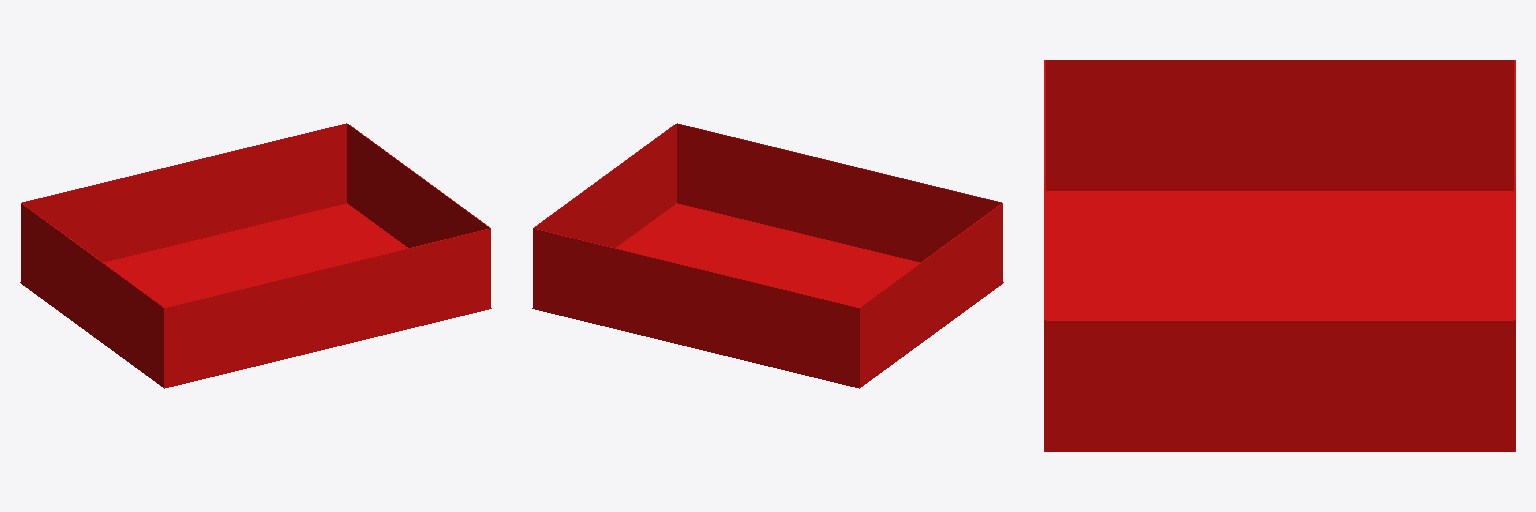
URDF robot description (big_box):
<robot name="big_box">
  <material name="red">
    <color rgba=".9 .1 .1 1" />
  </material>

  <link name="base_link">
    <inertial>
      <origin xyz="0 0 0" rpy="0 0 0" />
      <mass value="0.6" />
      <inertia ixx="0.001" ixy="0.0" ixz="0.0"
               iyy="0.001" iyz="0.0"
               izz="0.001" />
    </inertial>

    <!-- Bottom plate: 0.40 x 0.305 x 0.001 -->
    <visual>
      <origin xyz="0 0 0.0005" rpy="0 0 0" />
      <geometry>
        <box size="0.40 0.305 0.001" />
      </geometry>
      <material name="red" />
    </visual>
    <collision>
      <origin xyz="0 0 0.0005" rpy="0 0 0" />
      <geometry>
        <box size="0.40 0.305 0.001" />
      </geometry>
    </collision>

    <!-- Walls: thickness 0.001, height 0.093 -->
    <!-- front wall (y +) -->
    <visual>
      <origin xyz="0 0.152 0.0475" rpy="0 0 0" />
      <geometry>
        <box size="0.398 0.001 0.093" />
      </geometry>
      <material name="red" />
    </visual>
    <collision>
      <origin xyz="0 0.152 0.0475" rpy="0 0 0" />
      <geometry>
        <box size="0.398 0.001 0.093" />
      </geometry>
    </collision>

    <!-- back wall (y -) -->
    <visual>
      <origin xyz="0 -0.152 0.0475" rpy="0 0 0" />
      <geometry>
        <box size="0.398 0.001 0.093" />
      </geometry>
      <material name="red" />
    </visual>
    <collision>
      <origin xyz="0 -0.152 0.0475" rpy="0 0 0" />
      <geometry>
        <box size="0.398 0.001 0.093" />
      </geometry>
    </collision>

    <!-- right wall (x +) -->
    <visual>
      <origin xyz="0.1995 0 0.0475" rpy="0 0 0" />
      <geometry>
        <box size="0.001 0.303 0.093" />
      </geometry>
      <material name="red" />
    </visual>
    <collision>
      <origin xyz="0.1995 0 0.0475" rpy="0 0 0" />
      <geometry>
        <box size="0.001 0.303 0.093" />
      </geometry>
    </collision>

    <!-- left wall (x -) -->
    <visual>
      <origin xyz="-0.1995 0 0.0475" rpy="0 0 0" />
      <geometry>
        <box size="0.001 0.303 0.093" />
      </geometry>
      <material name="red" />
    </visual>
    <collision>
      <origin xyz="-0.1995 0 0.0475" rpy="0 0 0" />
      <geometry>
        <box size="0.001 0.303 0.093" />
      </geometry>
    </collision>

  </link>
</robot>

--- What the picture shows (computed from the rendered views, not written in the file) ---
3 views of the same robot in one strip: view 1: azimuth 30°, elevation 25°; view 2: azimuth 150°, elevation 25°; view 3: azimuth 270°, elevation 25° (orthographic).
Robot: big_box — 1 links, 0 joints (none); root link base_link; default pose: every joint at zero.
Links seen in each view (by area): view 1: base_link; view 2: base_link; view 3: base_link.
Link boxes in pixels (x1,y1,x2,y2): base_link: (20,123,491,388); base_link: (532,123,1003,388); base_link: (1044,60,1515,451).
Size in the robot's own frame: 0.4 by 0.305 by 0.094 metres.
Geometry: primitives only (box / cylinder / sphere), no mesh files.
